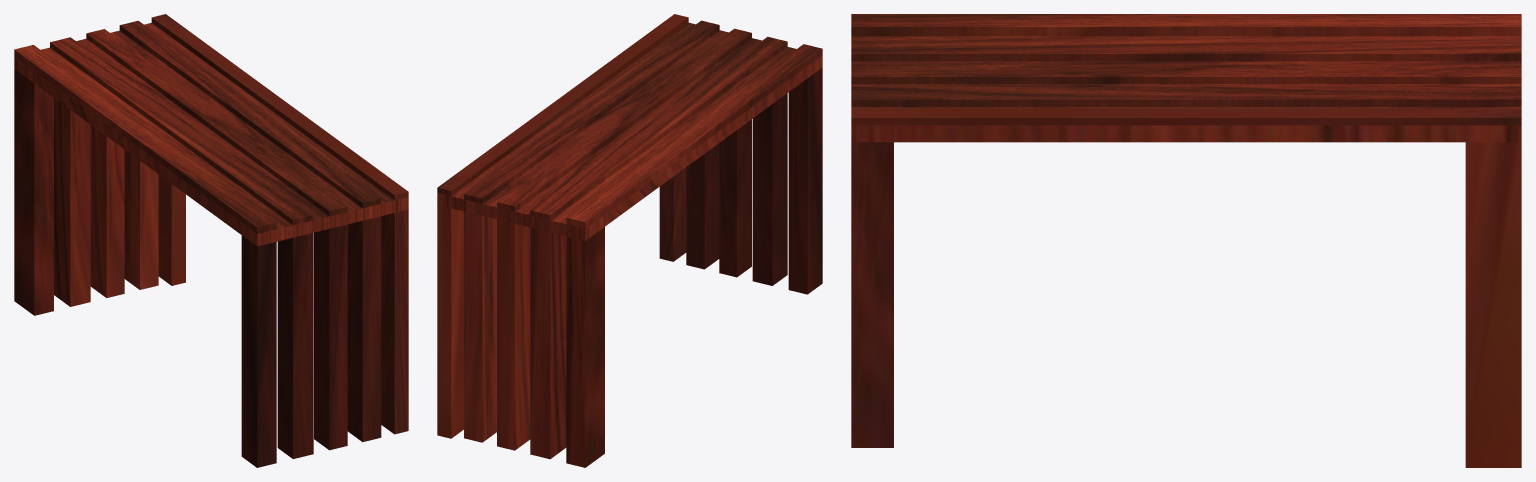
File: woodDesk.fbx
3 views of the same model, side by side, from view 1: azimuth 30°, elevation 25°; view 2: azimuth 150°, elevation 25°; view 3: azimuth 270°, elevation 25° (orthographic). The views are drawn at different scales.
Parts seen in each view (by area): view 1: Cube; view 2: Cube; view 3: Cube.
Boxes of the visible parts, left/top/right/bottom form: Cube: left=14, top=14, right=408, bottom=467; Cube: left=437, top=14, right=822, bottom=467; Cube: left=851, top=14, right=1521, bottom=467.
Bounding box in the file's own units: 118 × 190 × 327.
